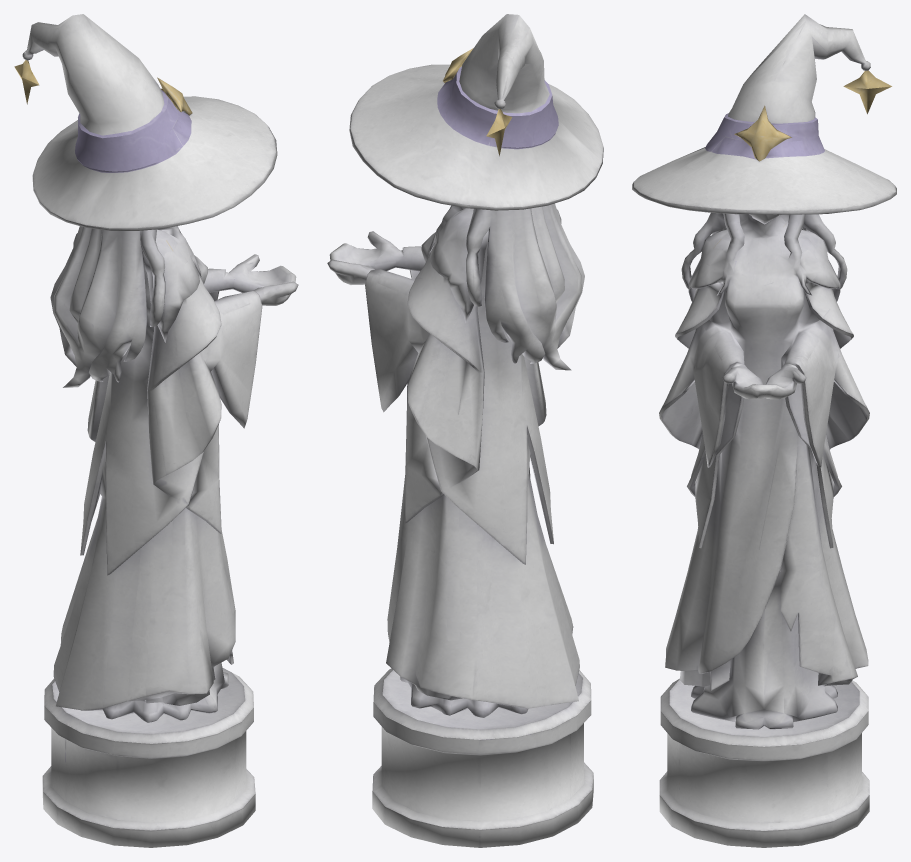
The model's file is Statue.fbx.
The picture shows the model from 3 angles, left to right: view 1: azimuth 30°, elevation 25°; view 2: azimuth 150°, elevation 25°; view 3: azimuth 270°, elevation 25°; orthographic projection. The views are drawn at different scales.
Parts seen in each view (by area): view 1: Statue; view 2: Statue; view 3: Statue.
Part boxes in pixels (bbox=[...]): Statue: bbox=[14, 14, 298, 847]; Statue: bbox=[327, 14, 603, 847]; Statue: bbox=[632, 14, 896, 847].
Size of the model in its own units: 332 by 1033 by 324.
Materials: 1 (1 with a texture image).
